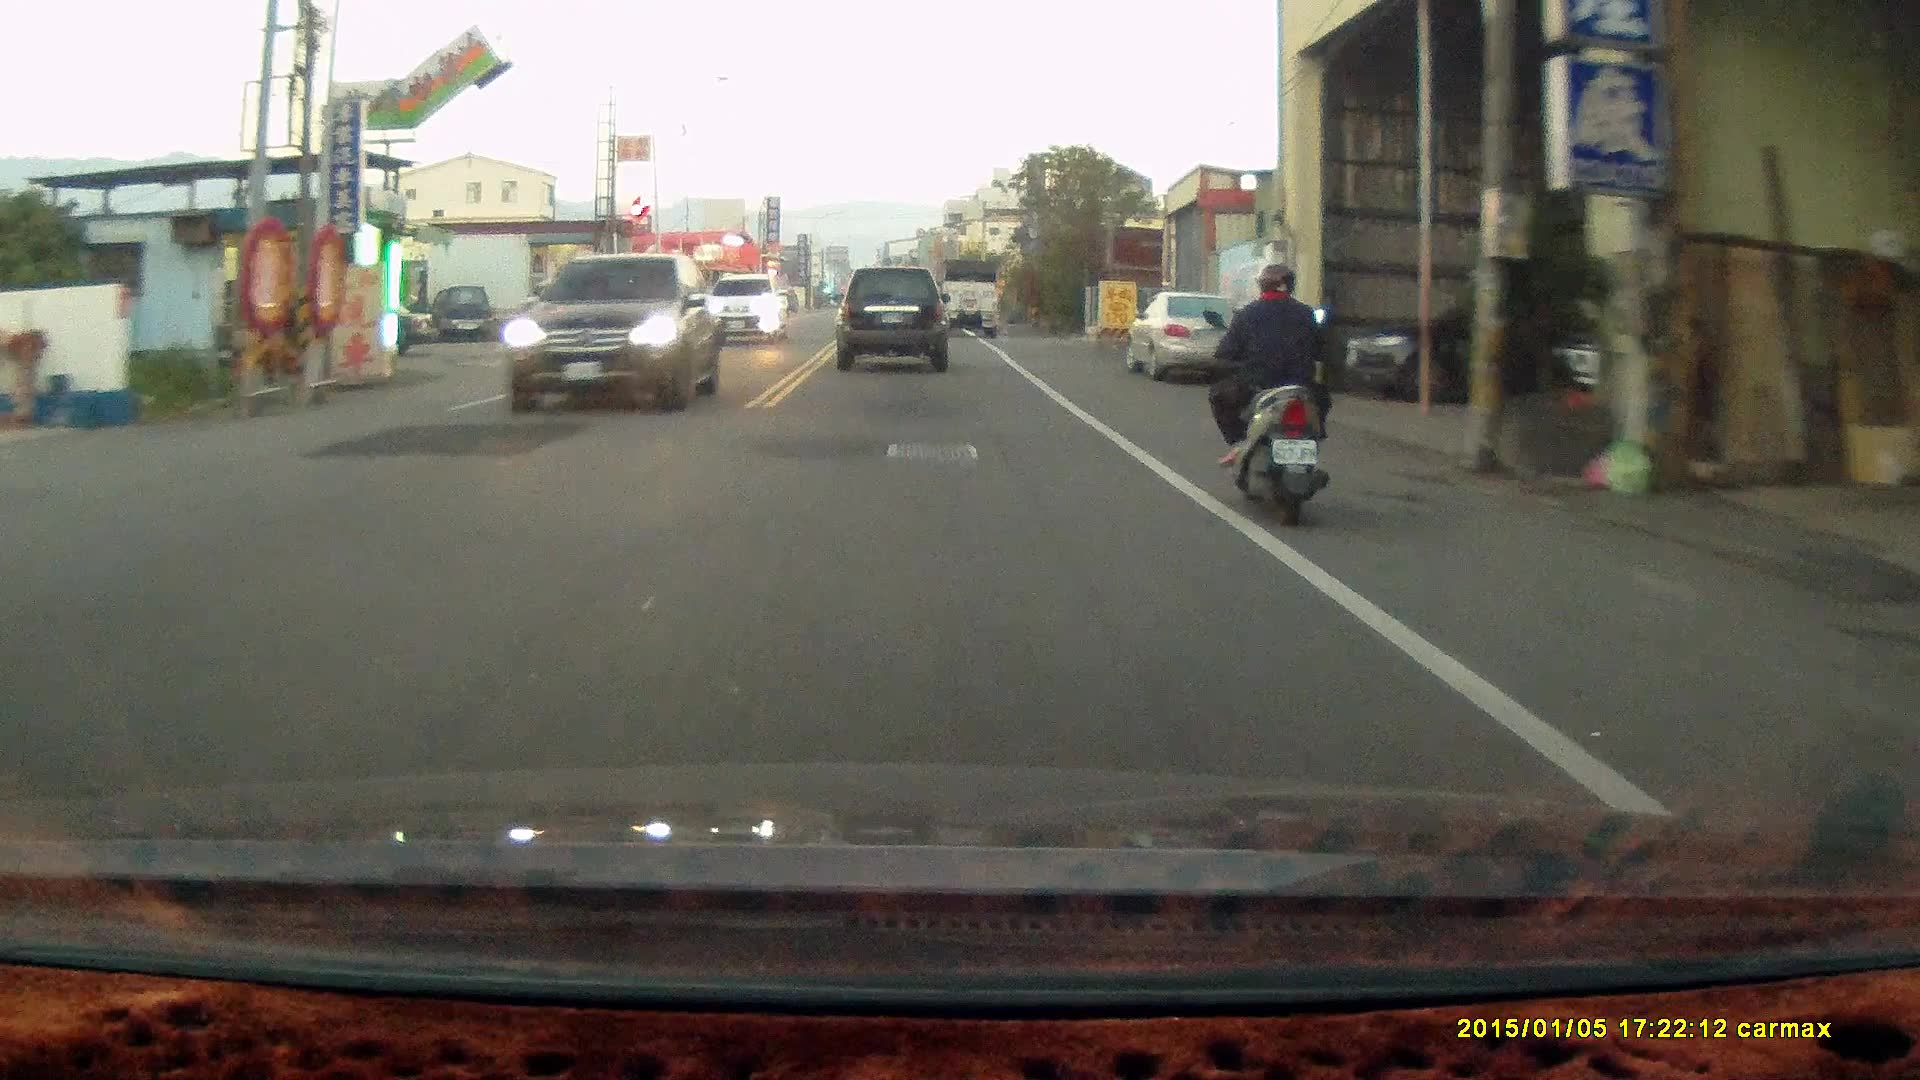rider: (1199, 262, 1333, 530)
vehicle: (497, 254, 726, 408), (1339, 296, 1567, 408), (838, 265, 954, 375), (1129, 290, 1257, 385), (703, 276, 792, 352), (931, 261, 1001, 340), (441, 286, 494, 346)
